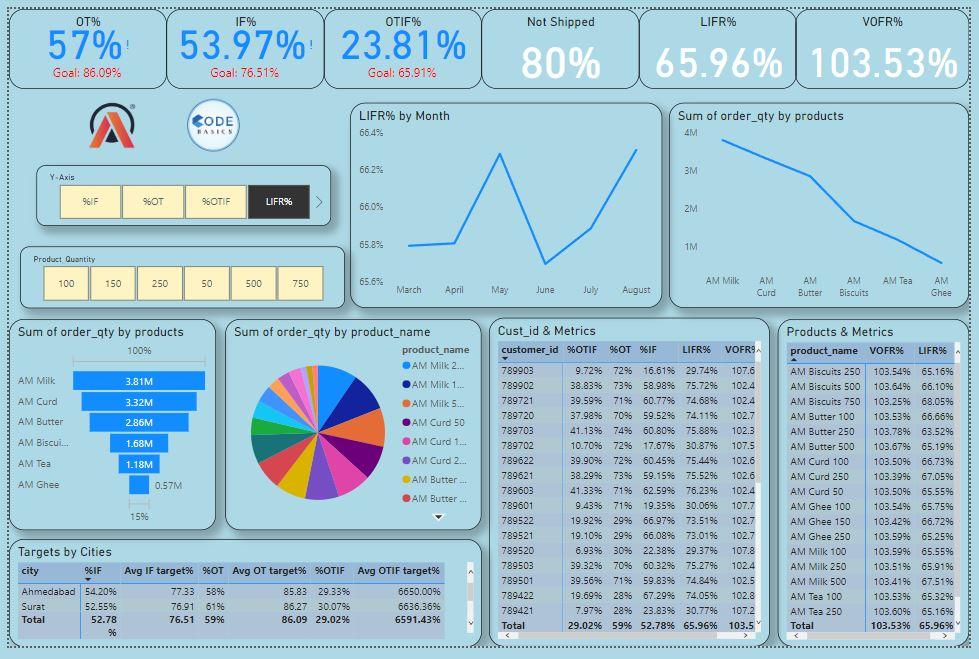

This screenshot's page, from the dashboard's own definition file:
{"tool":"powerbi","page":{"name":"Page 1","canvas":[1280,850],"ordinal":0},"visuals":[{"type":"pivotTable","title":"Targets by Cities","fields":{"Rows":["dim_customers.city"],"Values":["fact_orders_aggregate.%IF","Avg(dim_targets_orders.infull_target%)","fact_orders_aggregate.%OT","Avg(dim_targets_orders.ontime_target%)","fact_orders_aggregate.%OTIF","Avg(dim_targets_orders.otif_target%)"]},"box":[0,706.2,630.7,143.8],"z":0},{"type":"card","title":"LIFR%","fields":{"Values":["fact_order_lines.LIFR%"]},"box":[858.5,0,195.1,106.8],"z":1000},{"type":"card","title":"VOFR%","fields":{"Values":["fact_order_lines.VOFR%"]},"box":[1065,0,215,106.8],"z":2000},{"type":"pivotTable","title":"Cust_id & Metrics","fields":{"Rows":["dim_customers.customer_id"],"Values":["fact_orders_aggregate.%OTIF","fact_orders_aggregate.%OT","fact_orders_aggregate.%IF","fact_order_lines.LIFR%","fact_order_lines.VOFR%"]},"box":[640.7,411.5,374.5,438.5],"z":3000},{"type":"card","title":"Not Shipped","fields":{"Values":["fact_order_lines.Not shipped"]},"box":[683.4,0,163.7,106.8],"z":4000},{"type":"actionButton","box":[0,0,100,40],"z":5000},{"type":"kpi","title":"OT%","fields":{"Goal":["dim_targets_orders.Ontime_target"],"Indicator":["fact_orders_aggregate.%OT"],"TrendLine":["dim_date.date"]},"box":[14.2,0,196.5,106.8],"z":6000},{"type":"kpi","title":"IF%","fields":{"Indicator":["fact_orders_aggregate.%IF"],"TrendLine":["dim_date.date"],"Goal":["dim_targets_orders.Infull_target"]},"box":[220.7,0,226.4,106.8],"z":7000},{"type":"kpi","title":"OTIF%","fields":{"Indicator":["fact_orders_aggregate.%OTIF"],"TrendLine":["dim_date.date"],"Goal":["dim_targets_orders.OTIF_target"]},"box":[459.9,0,215,106.8],"z":8000},{"type":"slicer","fields":{"Values":["Y-Axis.Y-Axis"]},"box":[37,207.9,393,81.2],"z":9000},{"type":"lineChart","fields":{"Y":["fact_orders_aggregate.%OTIF"],"Category":["dim_date.mmm_yy.Variation.Date Hierarchy.Month"]},"box":[454.2,125.3,415.7,273.4],"z":10000},{"type":"slicer","fields":{"Values":["dim_products.product_quantity"]},"box":[14.2,316.1,432.8,82.6],"z":11000},{"type":"funnel","fields":{"Y":["Sum(fact_order_lines.order_qty)"],"Category":["dim_products.products"]},"box":[0,412.9,276.2,281.9],"z":12000},{"type":"pivotTable","title":"Products & Metrics","fields":{"Rows":["dim_products.product_name"],"Values":["fact_order_lines.VOFR%","fact_order_lines.LIFR%"]},"box":[1025.1,412.9,254.9,437.1],"z":13000},{"type":"lineChart","fields":{"Y":["Sum(fact_order_lines.order_qty)"],"Category":["dim_products.products"]},"box":[879.9,125.3,400.1,273.4],"z":14000},{"type":"pieChart","fields":{"Category":["dim_products.product_name"],"Y":["Sum(fact_order_lines.order_qty)"]},"box":[289,412.9,341.7,281.9],"z":15000}]}

Visuals, with their boxes in screenshot pixels (x1, y1, x2, y2), scaled from the page's 1280x850 canvas onto the 979x659 screenshot:
"Targets by Cities" pivotTable: (x1=0, y1=548, x2=482, y2=658)
"LIFR%" card: (x1=657, y1=0, x2=806, y2=83)
"VOFR%" card: (x1=815, y1=0, x2=978, y2=83)
"Cust_id & Metrics" pivotTable: (x1=490, y1=319, x2=776, y2=658)
"Not Shipped" card: (x1=523, y1=0, x2=648, y2=83)
actionButton: (x1=0, y1=0, x2=76, y2=31)
"OT%" kpi: (x1=11, y1=0, x2=161, y2=83)
"IF%" kpi: (x1=169, y1=0, x2=342, y2=83)
"OTIF%" kpi: (x1=352, y1=0, x2=516, y2=83)
slicer - Y-Axis.Y-Axis: (x1=28, y1=161, x2=329, y2=224)
lineChart - fact_orders_aggregate.%OTIF x dim_date.mmm_yy.Variation.Date Hierarchy.Month: (x1=347, y1=97, x2=665, y2=309)
slicer - dim_products.product_quantity: (x1=11, y1=245, x2=342, y2=309)
funnel - Sum(fact_order_lines.order_qty) x dim_products.products: (x1=0, y1=320, x2=211, y2=539)
"Products & Metrics" pivotTable: (x1=784, y1=320, x2=978, y2=658)
lineChart - Sum(fact_order_lines.order_qty) x dim_products.products: (x1=673, y1=97, x2=978, y2=309)
pieChart - dim_products.product_name x Sum(fact_order_lines.order_qty): (x1=221, y1=320, x2=482, y2=539)
